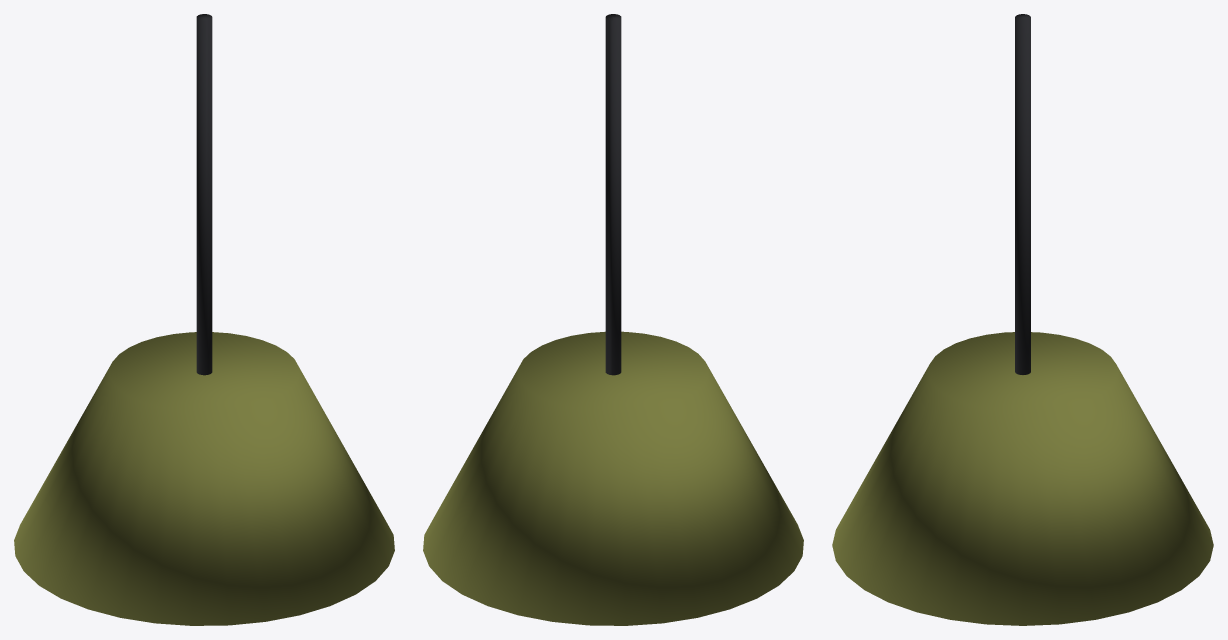
File: tavan_lamba.fbx
3 renders of one model, left to right at view 1: azimuth 30°, elevation 25°; view 2: azimuth 150°, elevation 25°; view 3: azimuth 270°, elevation 25°, orthographic.
Visible parts, largest first — view 1: Cylinder.001; view 2: Cylinder.001; view 3: Cylinder.001.
Boxes of the visible parts, <box> form: Cylinder.001: <box>14,14,394,625</box>; Cylinder.001: <box>423,14,803,625</box>; Cylinder.001: <box>832,14,1213,625</box>.
Size of the model in its own units: 489 by 746 by 489.
